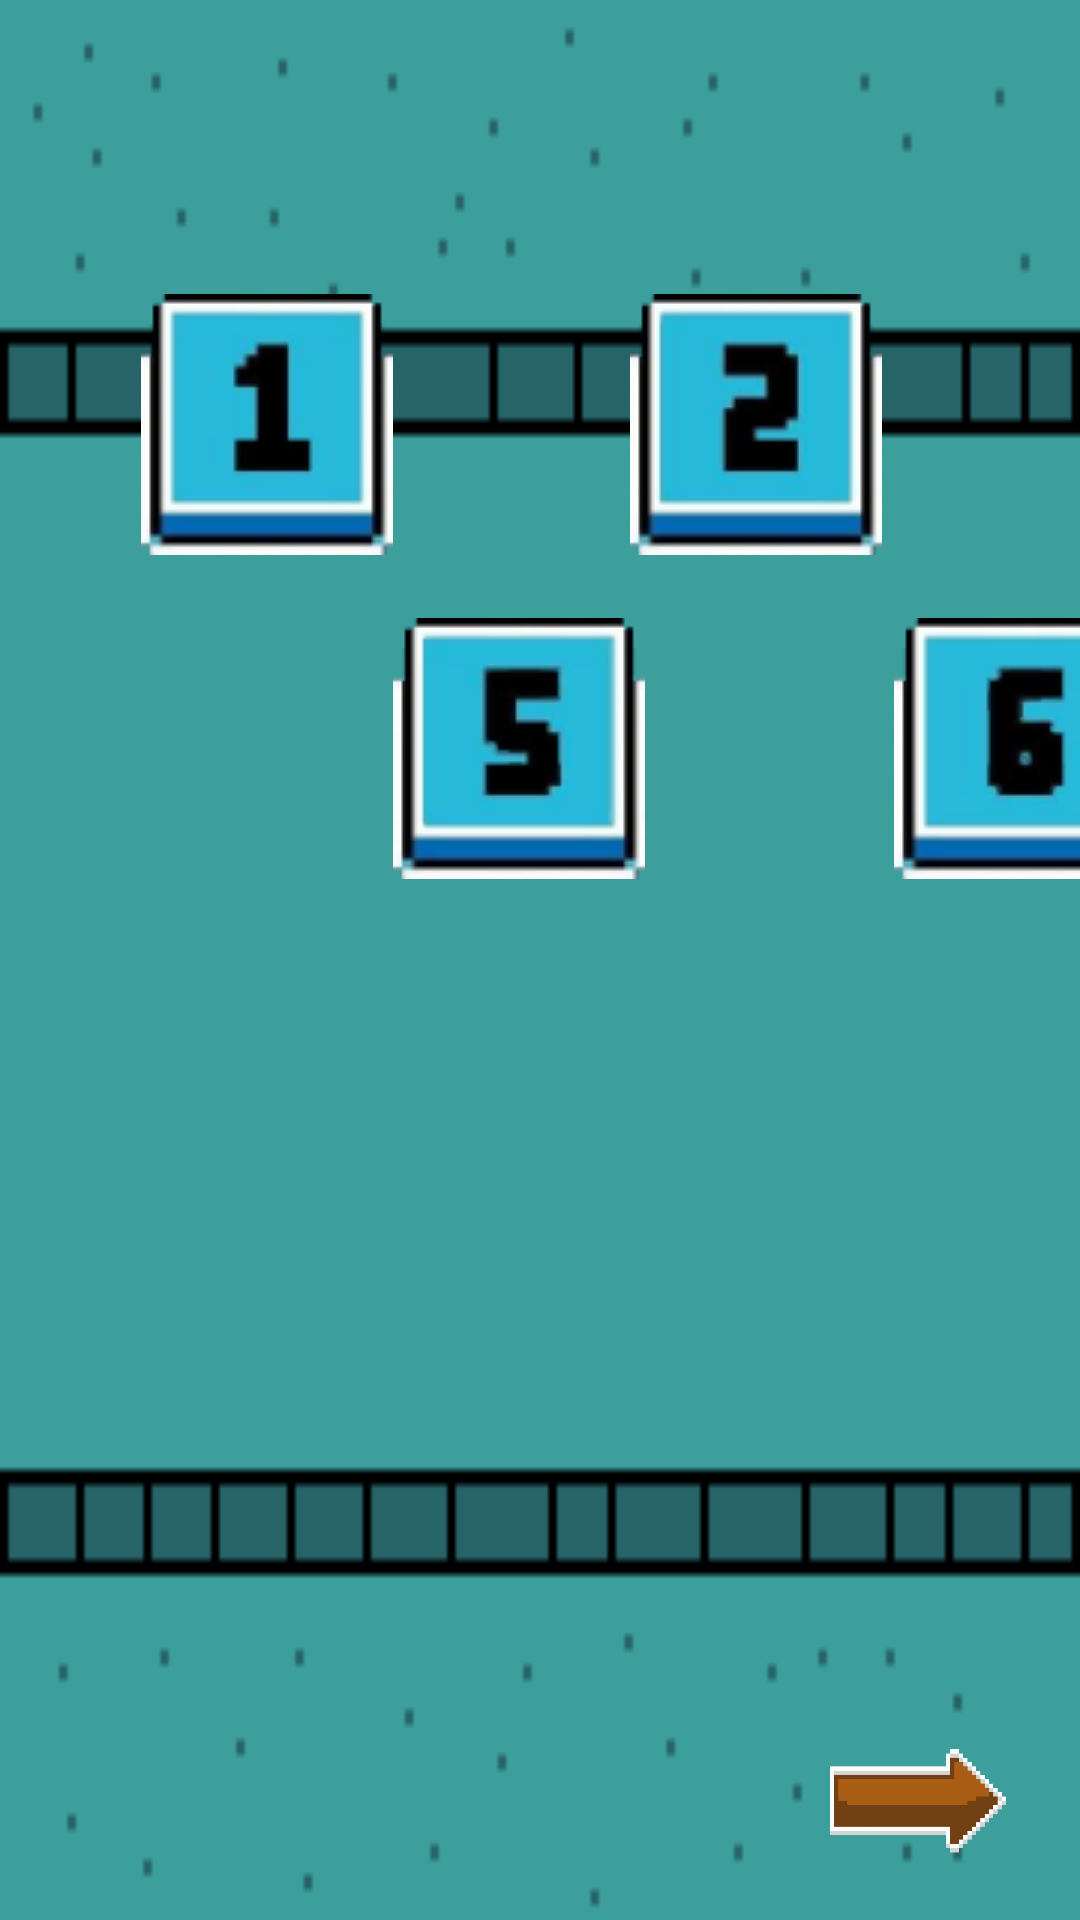

Icons on this 1080px×1920px Android screen, each with the point to tap as (x=x, y=y):
arrownext: (x=918, y=1805)
